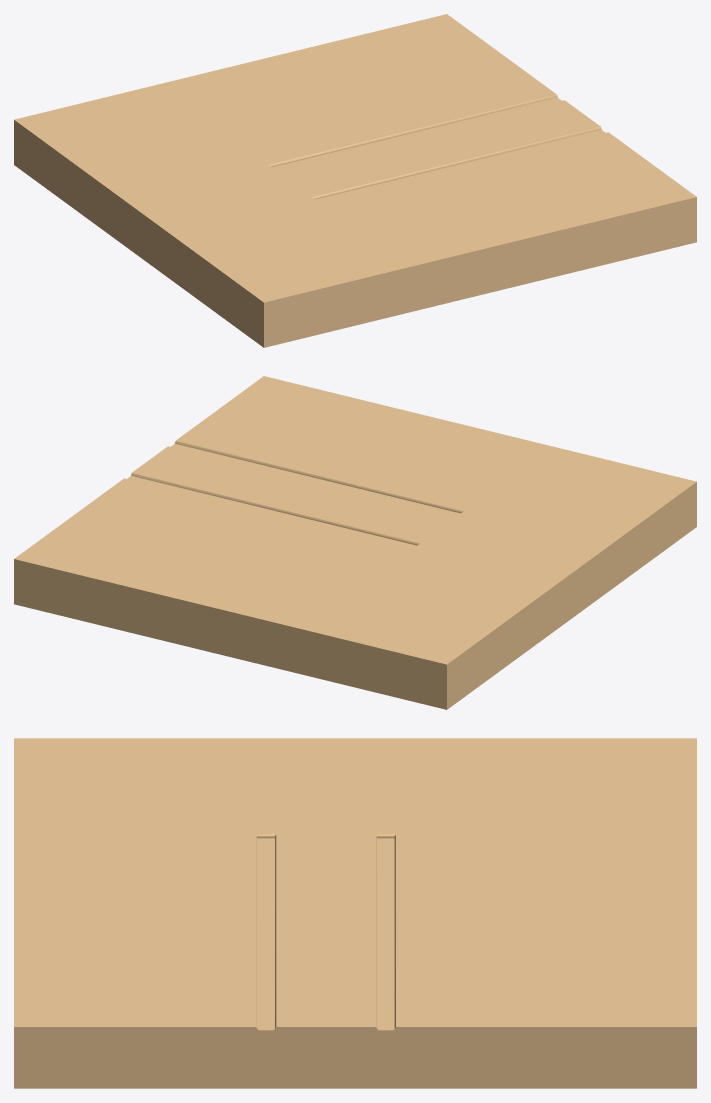
The picture shows the model from 3 angles, top to bottom: view 1: azimuth 30°, elevation 25°; view 2: azimuth 150°, elevation 25°; view 3: azimuth 270°, elevation 25°; orthographic projection. The views are drawn at different scales.
Visible parts, largest first — view 1: Box001; view 2: Box001; view 3: Box001.
Part boxes in pixels (x1,y1,x2,y2): Box001: (14,14,696,347); Box001: (14,376,696,709); Box001: (14,738,696,1088).
Size of the model in its own units: 10000 by 1000 by 10000.
